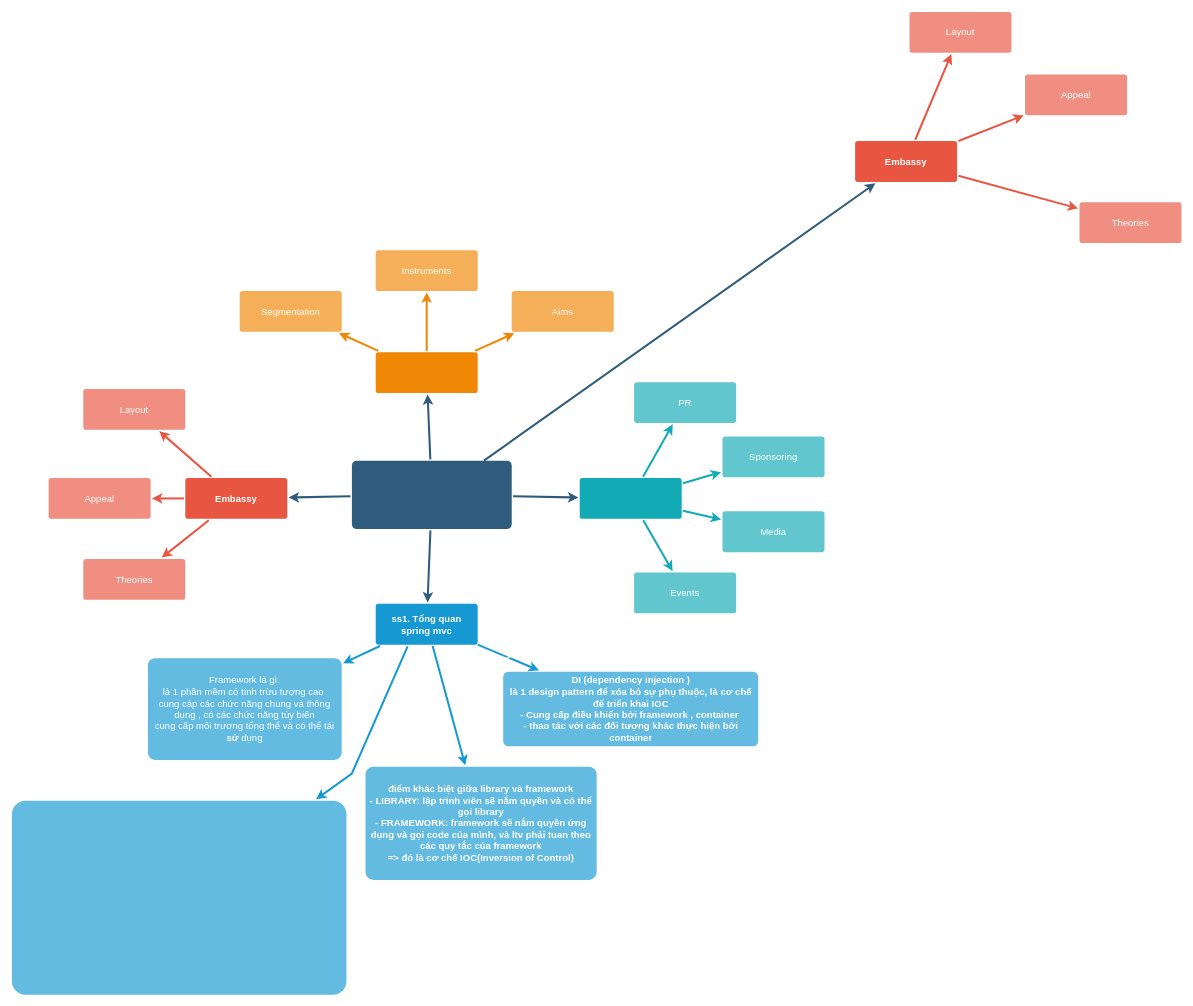
This 1193x1006 diagram has some shape labels left out. The centre of each missing label's shape, as x and y in pixels:
Communication: the point at 630,498
Marketing: the point at 426,372
Module 4 Trương Quốc Hòa: the point at 431,494
tại sao phải tiêm sự phụ thuộc để giảm sự phụ thuộc ? -: the point at 179,897
